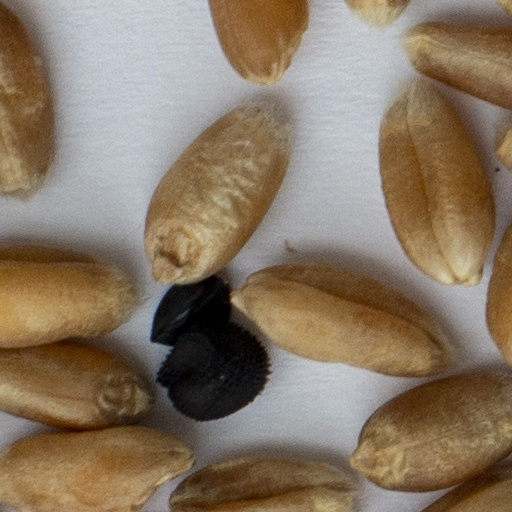Agrostemma-poly: (159, 316, 268, 419)
Fallopia-Convolvulus-poly: (150, 275, 231, 347)
